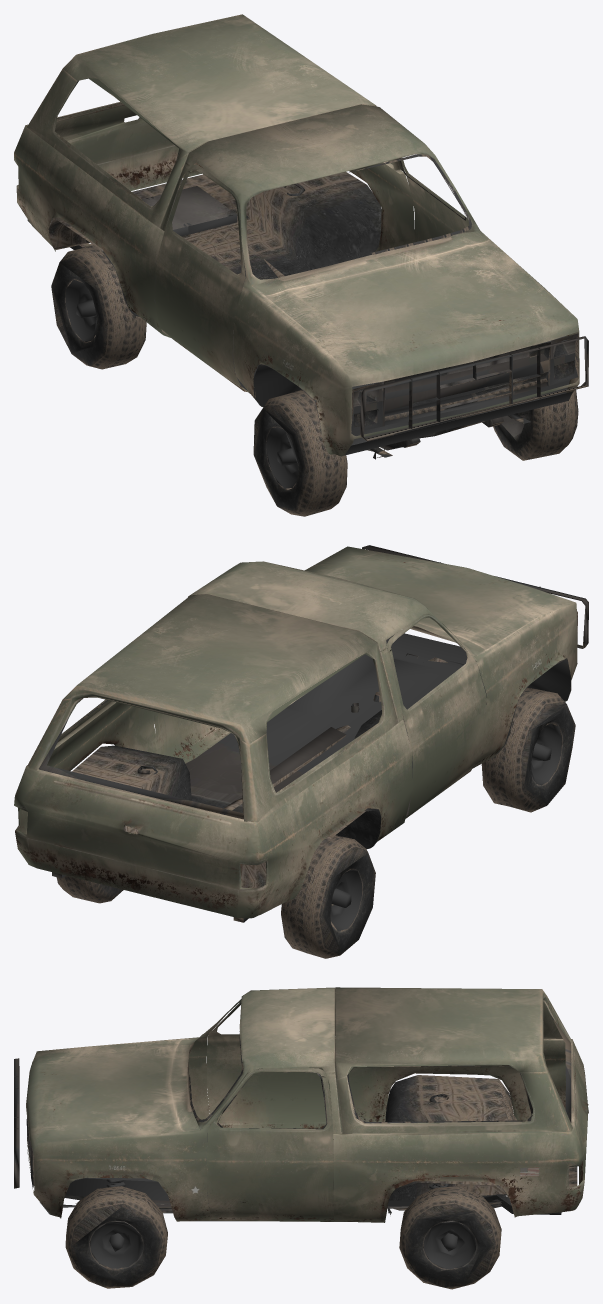
The model's file is MasinaPanks.fbx.
3 views of the same model, one above another, from view 1: azimuth 30°, elevation 25°; view 2: azimuth 150°, elevation 25°; view 3: azimuth 270°, elevation 25° (orthographic). The views are drawn at different scales.
Visible parts, largest first — view 1: Body Part.005; view 2: Body Part.005; view 3: Body Part.005.
Boxes of the visible parts, x1,y1,x2,y2 form: Body Part.005: (14, 14, 588, 516); Body Part.005: (14, 545, 588, 958); Body Part.005: (14, 987, 588, 1289).
Size of the model in its own units: 1.87 by 1.74 by 4.11.
Materials: 2 (2 with a texture image).
